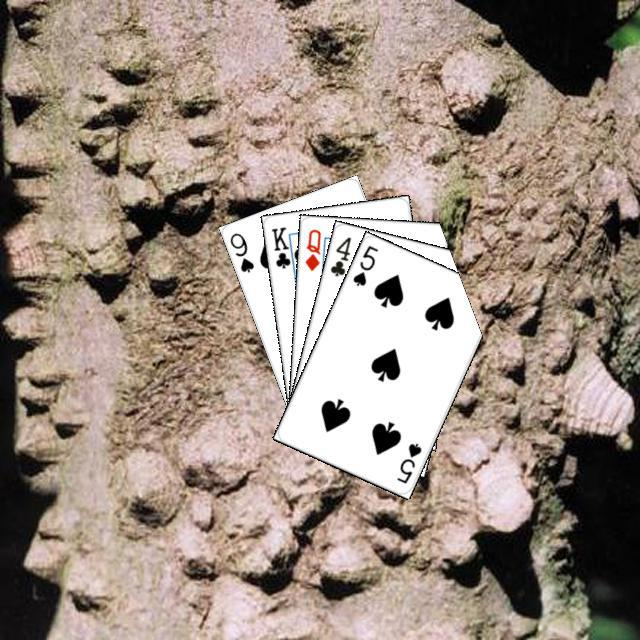4c: (325, 232, 353, 278)
5s: (348, 240, 380, 288), (392, 438, 423, 485)
9s: (225, 228, 256, 274)
Kc: (266, 222, 297, 273)
Qd: (300, 225, 322, 272)
